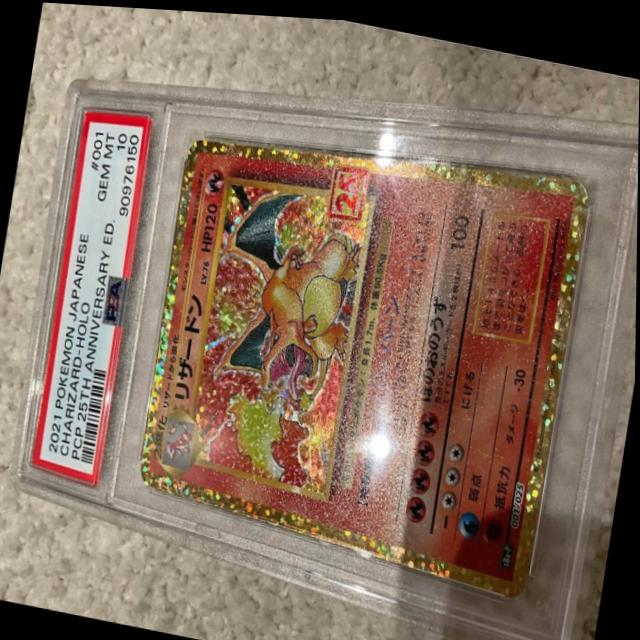card: (139, 135, 591, 593)
